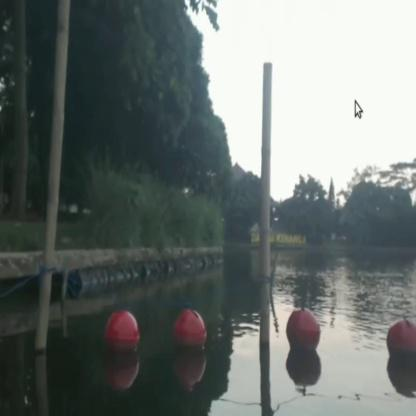red_buoy: (103, 308, 139, 361), (384, 315, 415, 376), (286, 306, 320, 360), (174, 309, 204, 360)
